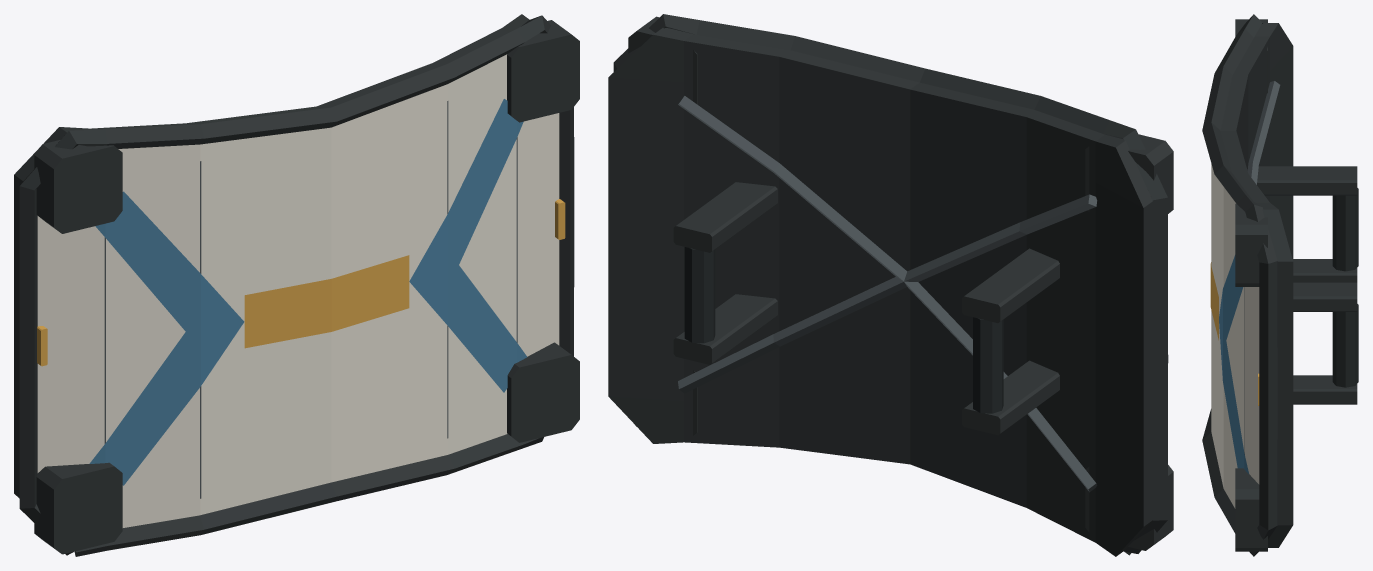
File: wield-rebound-panel.glb
3 renders of one model, left to right at view 1: azimuth 30°, elevation 25°; view 2: azimuth 150°, elevation 25°; view 3: azimuth 270°, elevation 25°, orthographic. The views are drawn at different scales.
Visible parts, largest first — view 1: panel__static_mesh; view 2: panel__static_mesh; view 3: panel__static_mesh.
Boxes of the visible parts, bbox=[...] form: panel__static_mesh: bbox=[14, 14, 579, 556]; panel__static_mesh: bbox=[608, 14, 1173, 556]; panel__static_mesh: bbox=[1202, 14, 1358, 556].
Bounding box in the file's own units: 0.808 × 0.5956 × 0.239.
